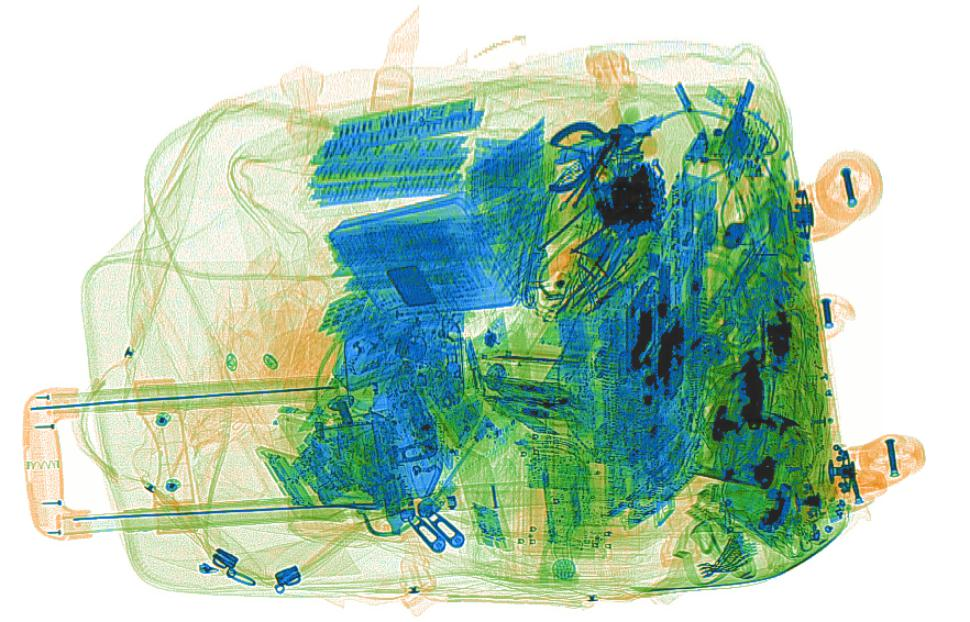knife: (552, 112, 663, 165)
